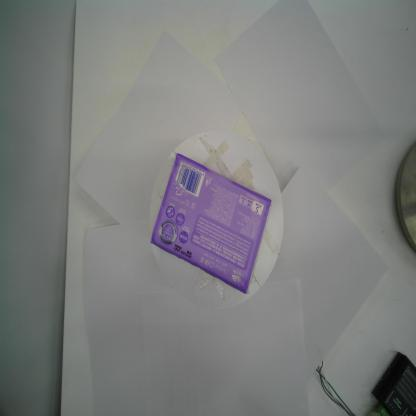Tissue: (148, 150, 272, 298)
